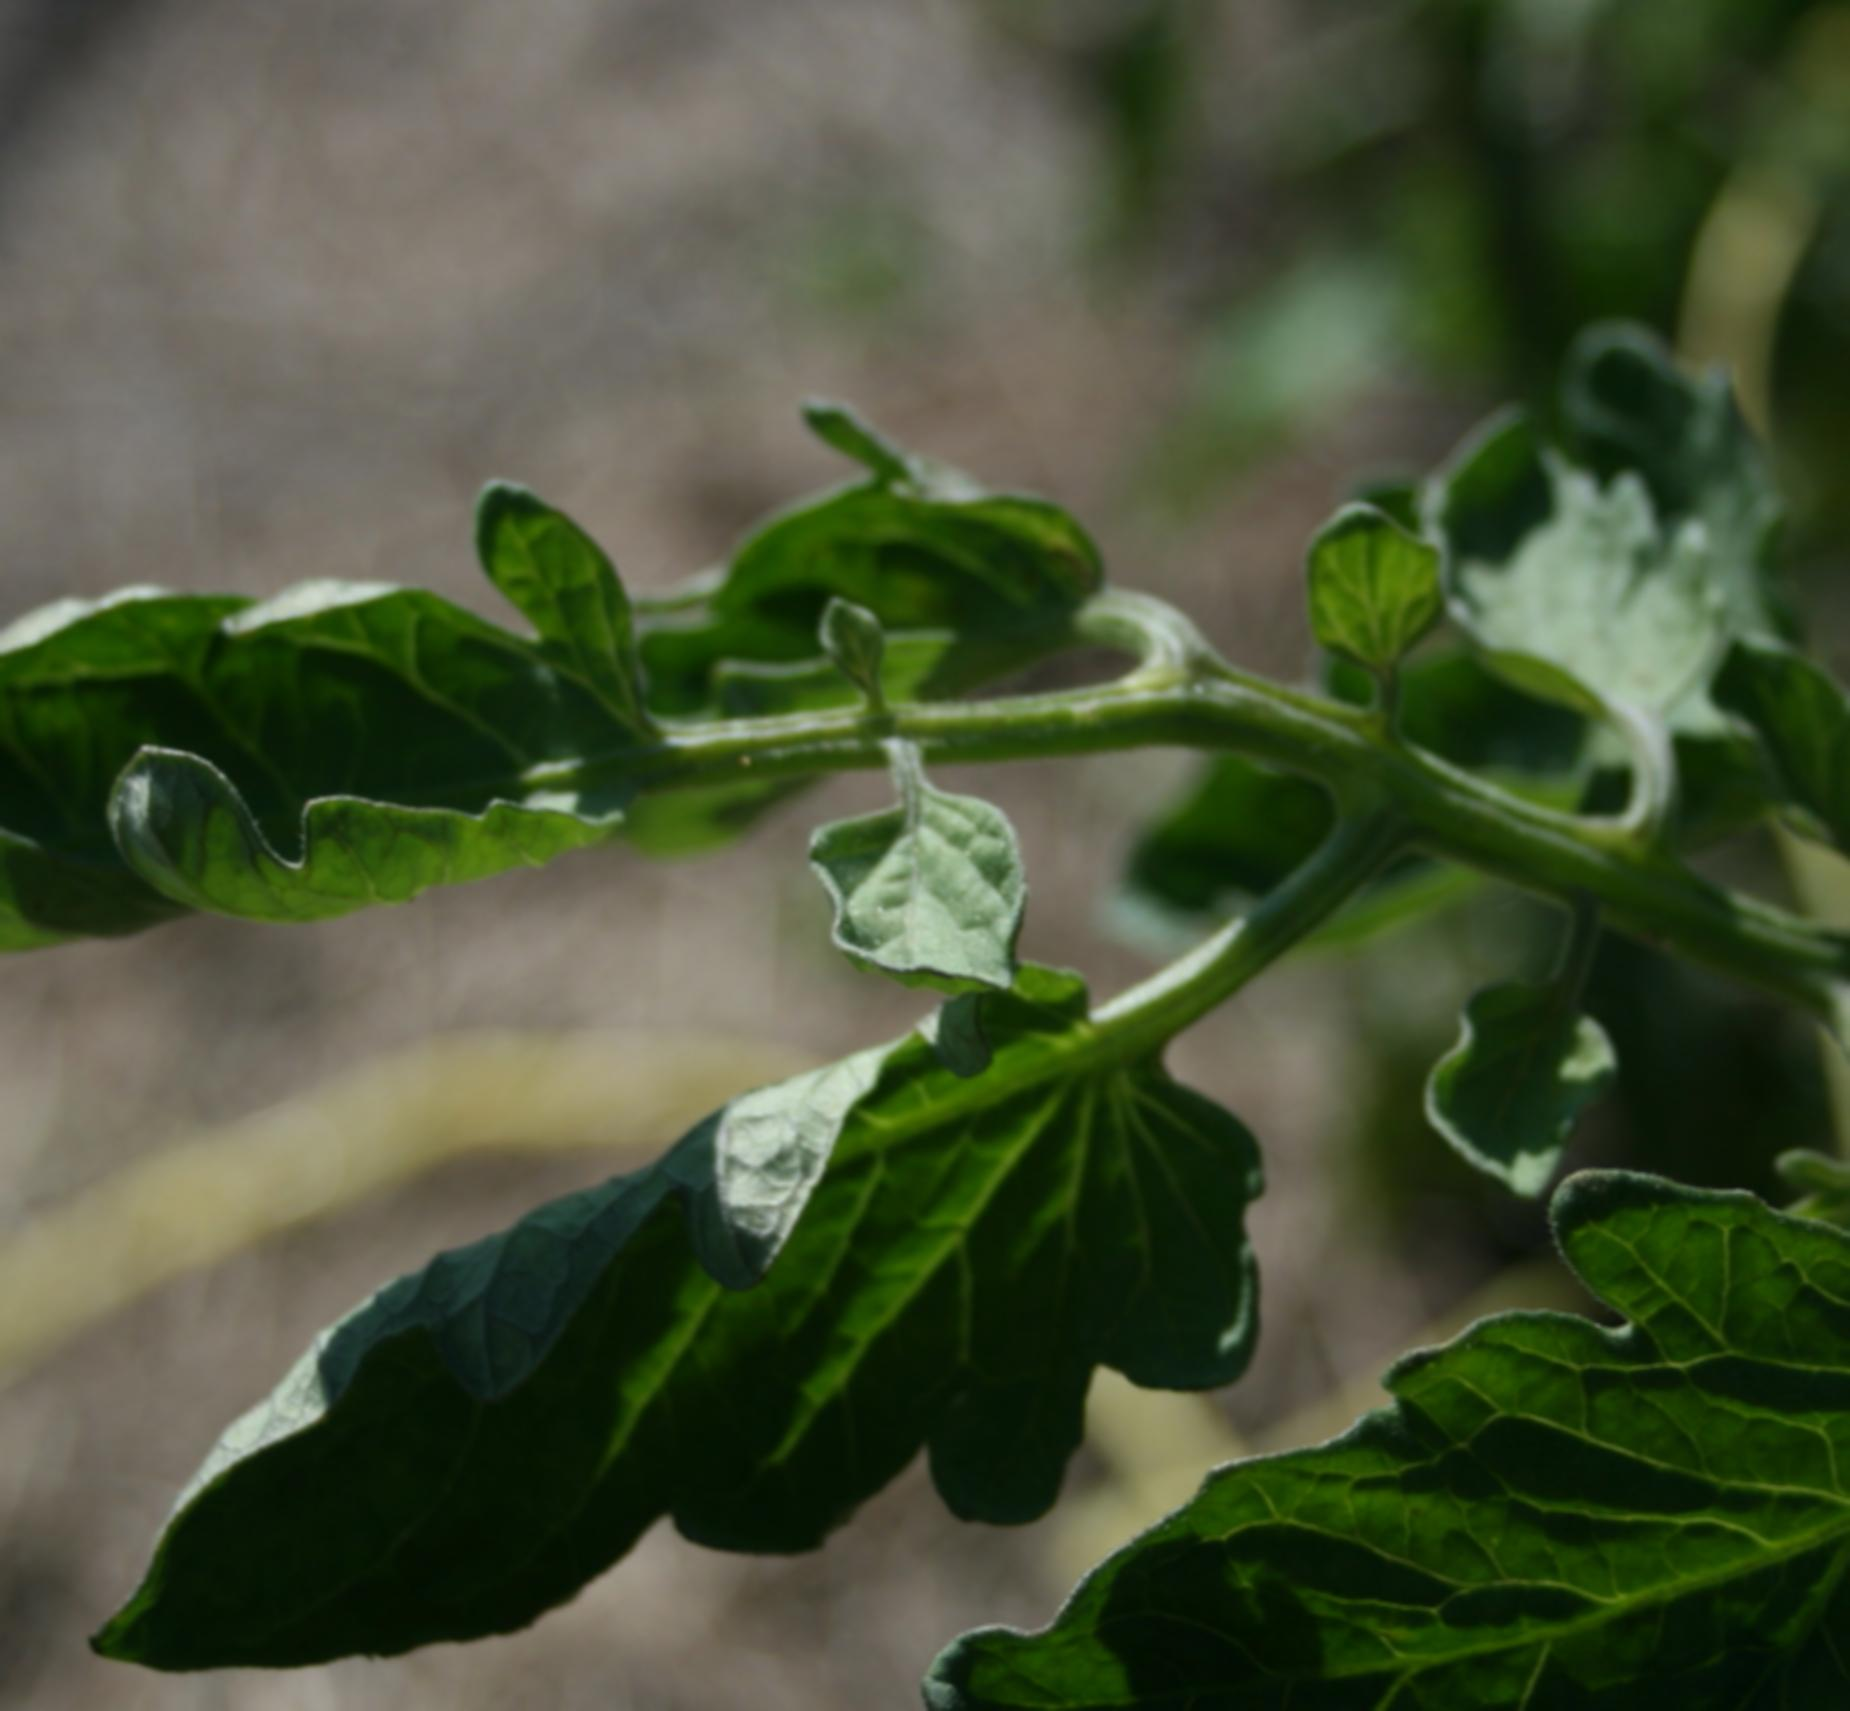Tomato leaf: (102, 955, 1234, 1693), (927, 1126, 1850, 1711), (0, 445, 844, 1041)
